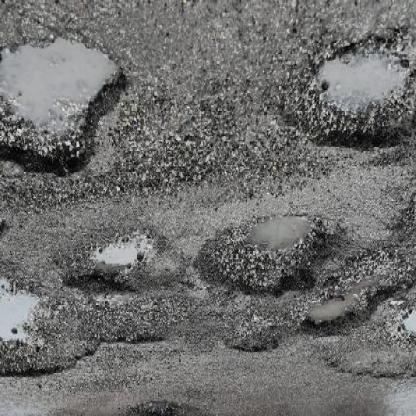pothole: (2, 37, 133, 183), (271, 36, 416, 159), (2, 294, 172, 381), (198, 209, 339, 302), (305, 233, 416, 343), (57, 226, 187, 298), (326, 345, 416, 385), (226, 324, 288, 357)
